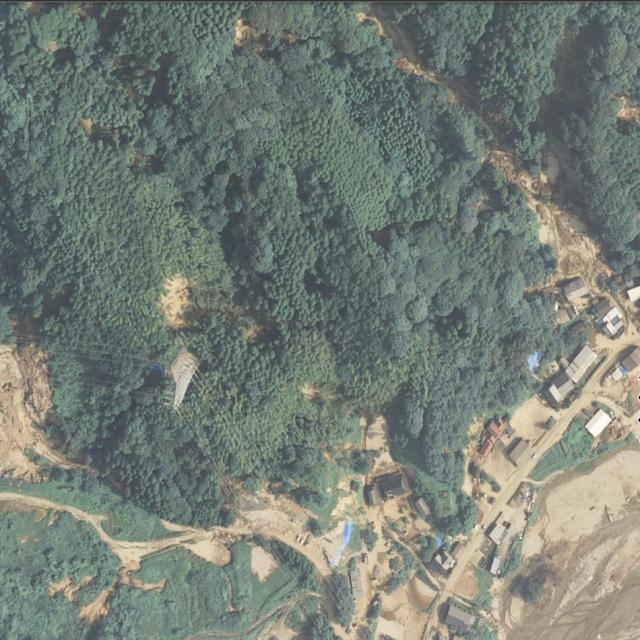landslide: (497, 443, 640, 640), (0, 493, 230, 573), (488, 150, 615, 294), (0, 345, 92, 483), (228, 491, 331, 578), (158, 274, 190, 329)
